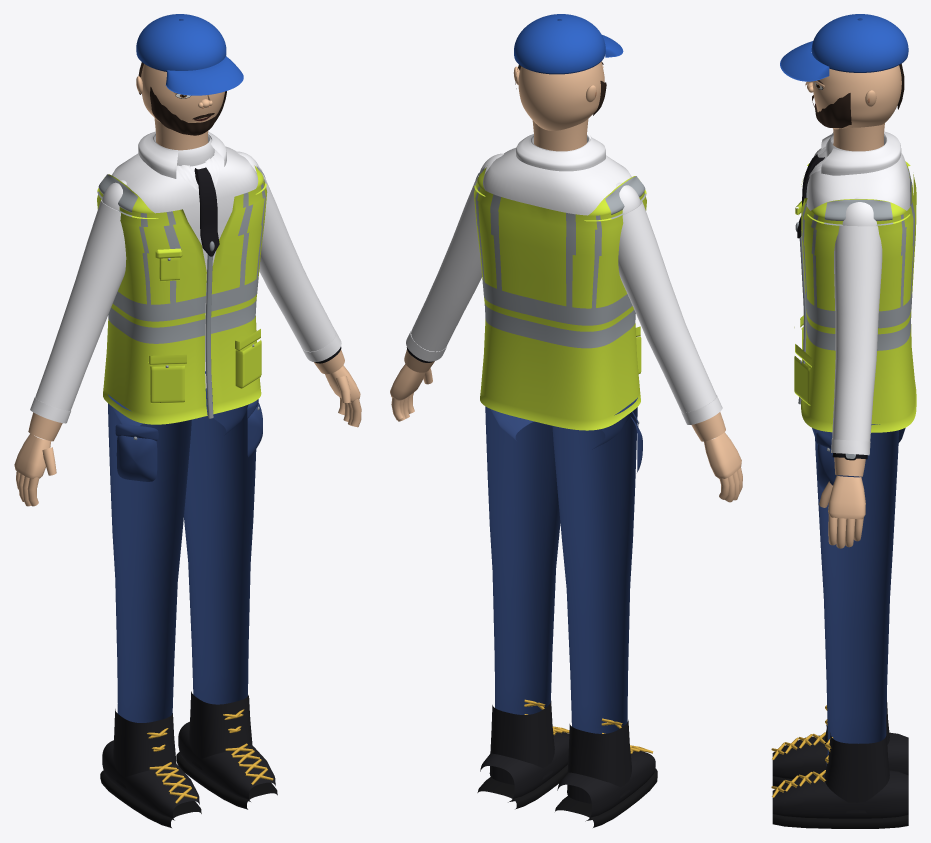
File: airport-crew.glb
3 renders of one model, left to right at view 1: azimuth 30°, elevation 25°; view 2: azimuth 150°, elevation 25°; view 3: azimuth 270°, elevation 25°, orthographic.
Parts seen in each view (by area): view 1: AirportGroundCrew; view 2: AirportGroundCrew; view 3: AirportGroundCrew.
Part boxes in pixels (left/top/right/bottom): AirportGroundCrew: left=14, top=14, right=361, bottom=827; AirportGroundCrew: left=390, top=14, right=742, bottom=827; AirportGroundCrew: left=771, top=14, right=916, bottom=828.
Size of the model in its own units: 0.8447 by 1.85 by 0.3114.
